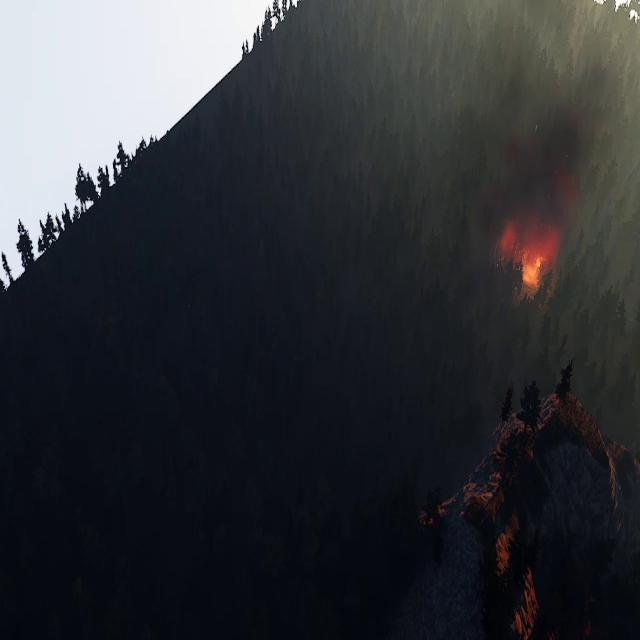fire: (498, 217, 558, 289)
smoke: (488, 107, 589, 222)
